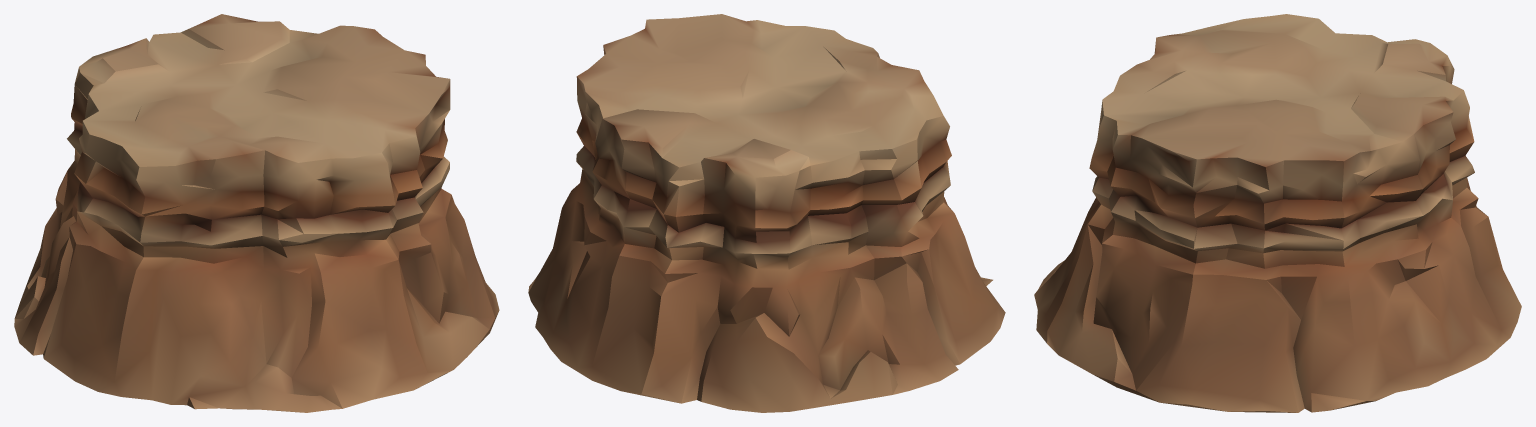
The model's file is mesa_a.glb.
3 views of the same model, side by side, from view 1: azimuth 30°, elevation 25°; view 2: azimuth 150°, elevation 25°; view 3: azimuth 270°, elevation 25° (orthographic).
Visible parts, largest first — view 1: MesaA; view 2: MesaA; view 3: MesaA.
Boxes of the visible parts, bbox=[...] form: MesaA: bbox=[14, 14, 499, 412]; MesaA: bbox=[528, 14, 1005, 412]; MesaA: bbox=[1034, 14, 1521, 412].
Size of the model in its own units: 80.69 by 41.52 by 80.29.
